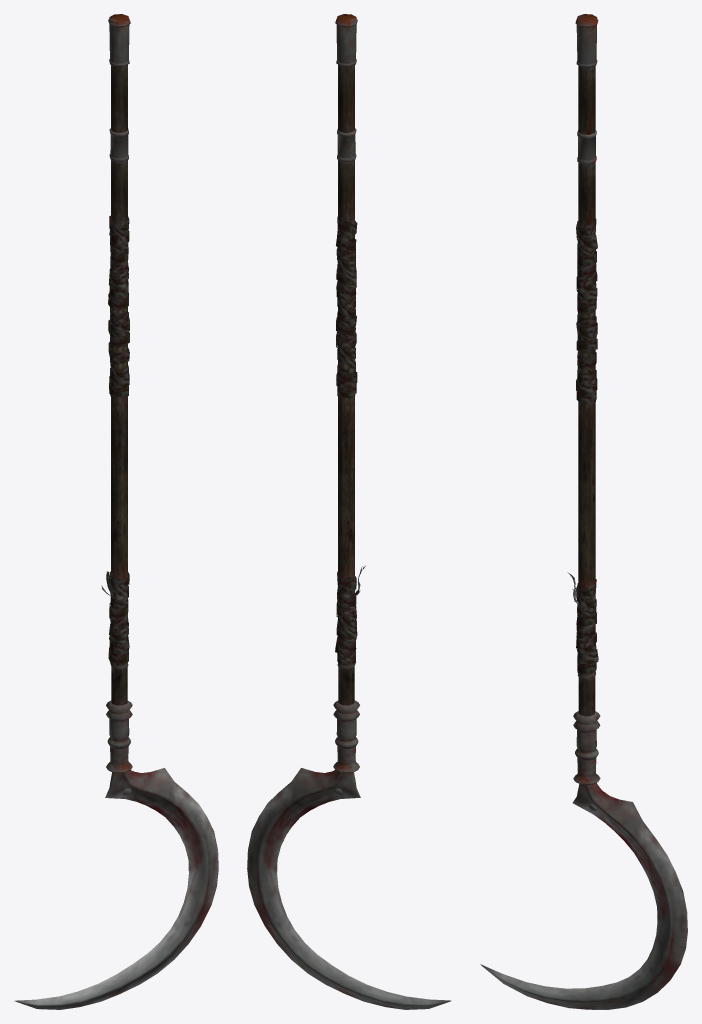
Rendered from weapon-wp_a_1054.glb.
3 views of the same model, side by side, from view 1: azimuth 30°, elevation 25°; view 2: azimuth 150°, elevation 25°; view 3: azimuth 330°, elevation 25° (orthographic).
Visible parts, largest first — view 1: wp_a_1054_mesh; view 2: wp_a_1054_mesh; view 3: wp_a_1054_mesh.
Boxes of the visible parts, <box> form: wp_a_1054_mesh: <box>15,14,218,1009</box>; wp_a_1054_mesh: <box>247,14,451,1009</box>; wp_a_1054_mesh: <box>480,14,687,1009</box>.
Size of the model in its own units: 0.4329 by 1.98 by 0.0495.
2 materials, 2 textured.
